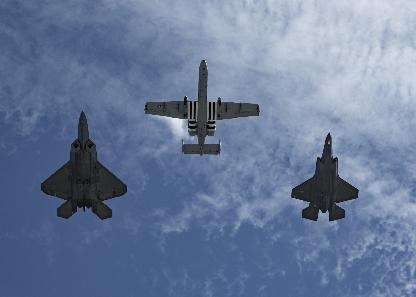A10: (144, 59, 258, 154)
F18: (40, 110, 127, 219)
F22: (290, 131, 358, 220)
